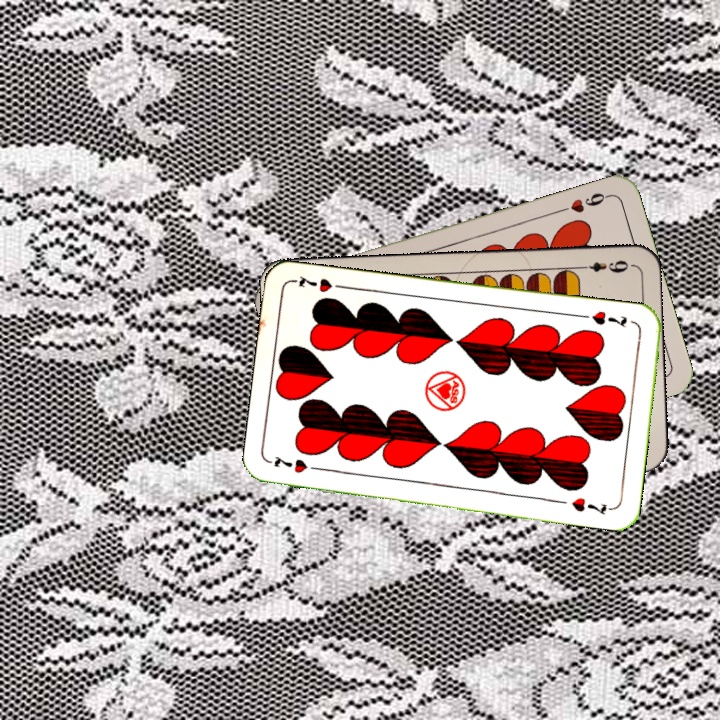E9: (575, 256, 634, 275)
H7: (577, 306, 629, 331), (270, 454, 326, 476)
H9: (555, 188, 613, 216)
